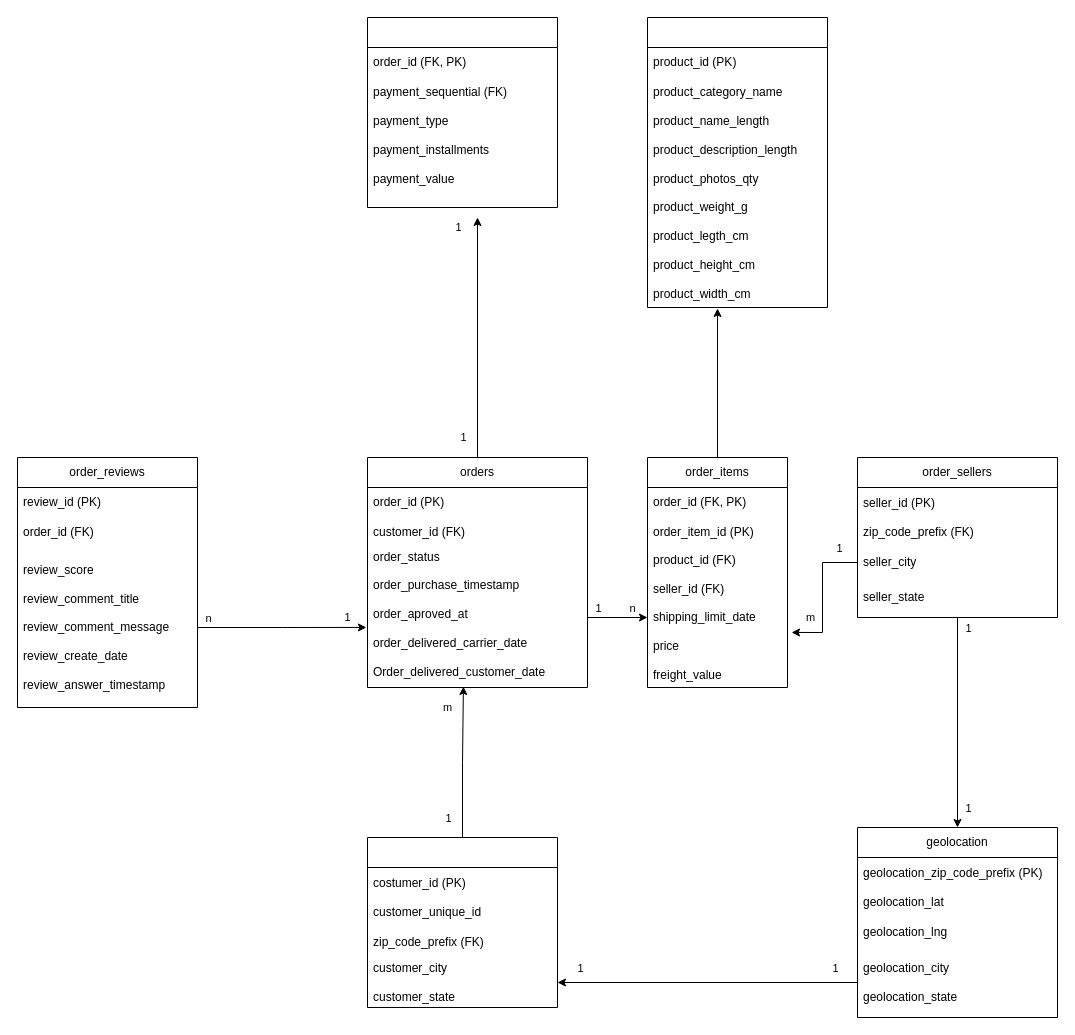
This 1075x1035 diagram has some shape labels left out. Each missing label, with the box of its shape:
order_customer: (366, 836, 558, 1008)
order_payments: (366, 16, 558, 208)
products: (646, 16, 828, 308)
